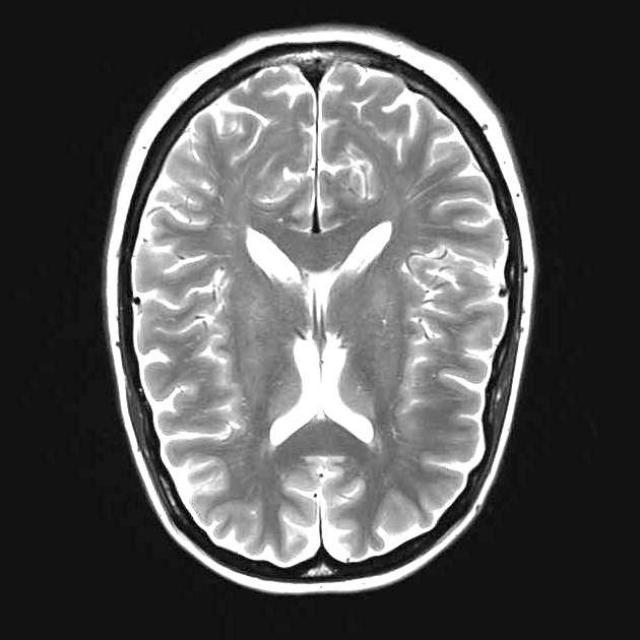No_Tumor: (106, 27, 535, 593)
